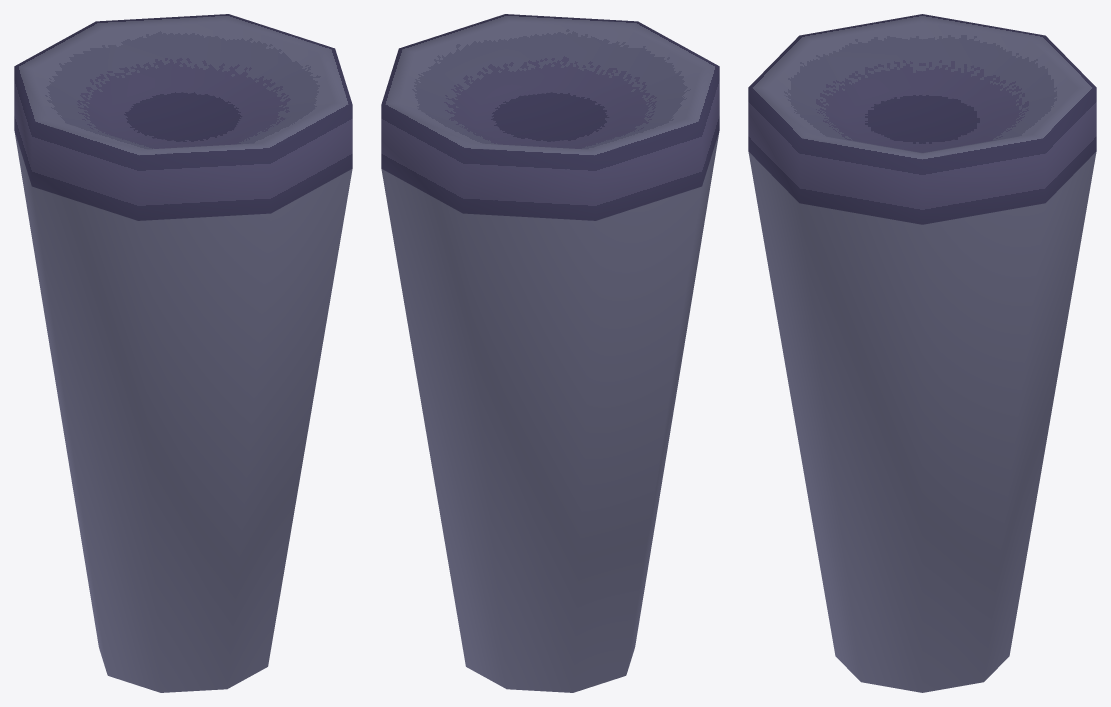
Rendered from tee.glb.
3 renders of one model, left to right at view 1: azimuth 30°, elevation 25°; view 2: azimuth 150°, elevation 25°; view 3: azimuth 270°, elevation 25°, orthographic.
Parts seen in each view (by area): view 1: Tee; view 2: Tee; view 3: Tee.
Part boxes in pixels (bbox=[...]): Tee: bbox=[14, 14, 352, 692]; Tee: bbox=[381, 14, 719, 692]; Tee: bbox=[748, 14, 1096, 692].
Size of what is drawn, in the model's own units: 1 by 1.8 by 1.
Materials: 1 (1 with a texture image).
